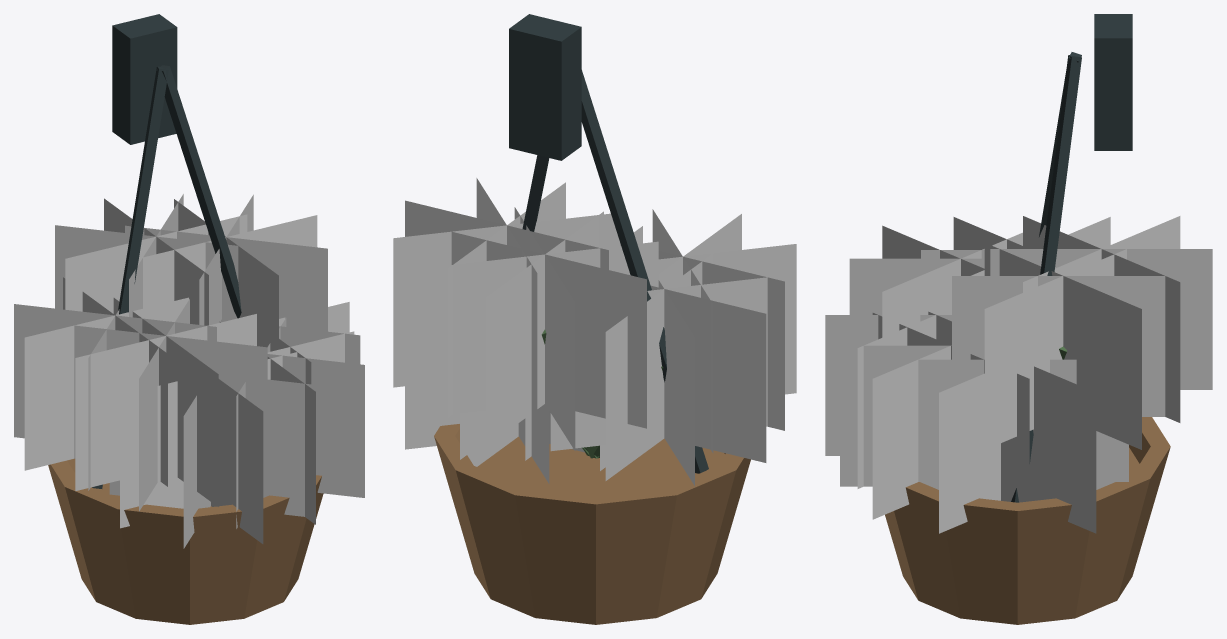
3 renders of one model, left to right at view 1: azimuth 30°, elevation 25°; view 2: azimuth 150°, elevation 25°; view 3: azimuth 270°, elevation 25°, orthographic. The views are drawn at different scales.
Visible parts, largest first — view 1: a07; view 2: a07; view 3: a07.
Part boxes in pixels (x1,y1,x2,y2): a07: (14, 14, 364, 624); a07: (393, 14, 796, 624); a07: (825, 14, 1212, 624).
Size of the model in its own units: 0.4072 by 0.635 by 0.4053.
